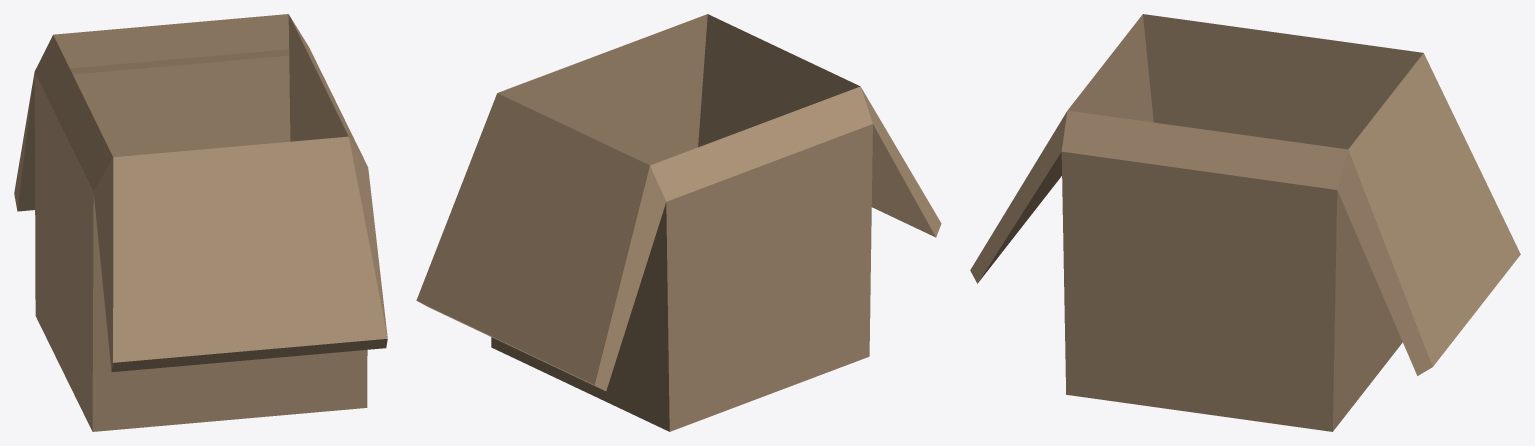
The picture shows the model from 3 angles, left to right: view 1: azimuth 30°, elevation 25°; view 2: azimuth 150°, elevation 25°; view 3: azimuth 270°, elevation 25°; orthographic projection. The views are drawn at different scales.
Visible parts, largest first — view 1: box; view 2: box; view 3: box.
Boxes of the visible parts, bbox=[...] form: box: bbox=[14, 14, 387, 431]; box: bbox=[416, 14, 941, 431]; box: bbox=[970, 14, 1520, 431].
Size of the model in its own units: 3.14 by 2.28 by 4.12.
